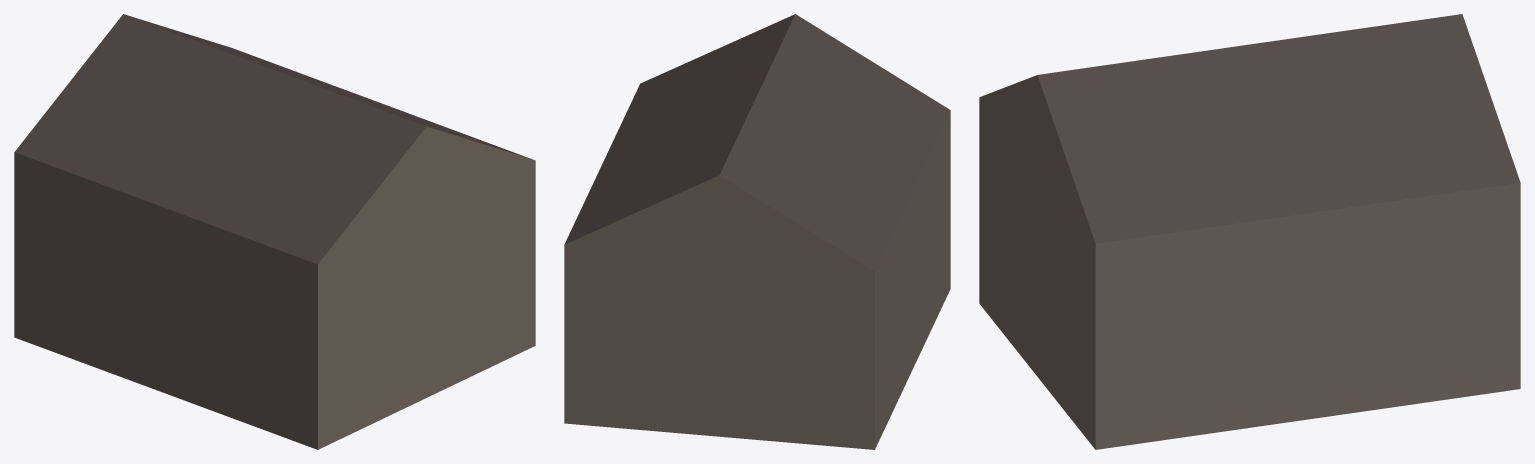
3 views of the same model, side by side, from view 1: azimuth 30°, elevation 25°; view 2: azimuth 150°, elevation 25°; view 3: azimuth 270°, elevation 25° (orthographic). The views are drawn at different scales.
Visible parts, largest first — view 1: HP-w440146334; view 2: HP-w440146334; view 3: HP-w440146334.
Part boxes in pixels (x1=…): HP-w440146334: x1=14, y1=14, x2=535, y2=449; HP-w440146334: x1=564, y1=14, x2=950, y2=449; HP-w440146334: x1=979, y1=14, x2=1520, y2=449.
Bounding box in the file's own units: 19.42 × 13.18 × 21.42.
